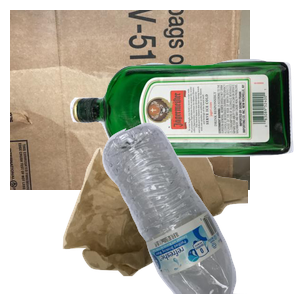cardboard: (10, 10, 250, 190)
glass: (67, 56, 300, 206)
plastic: (100, 120, 300, 300)
trash: (60, 142, 300, 300)
